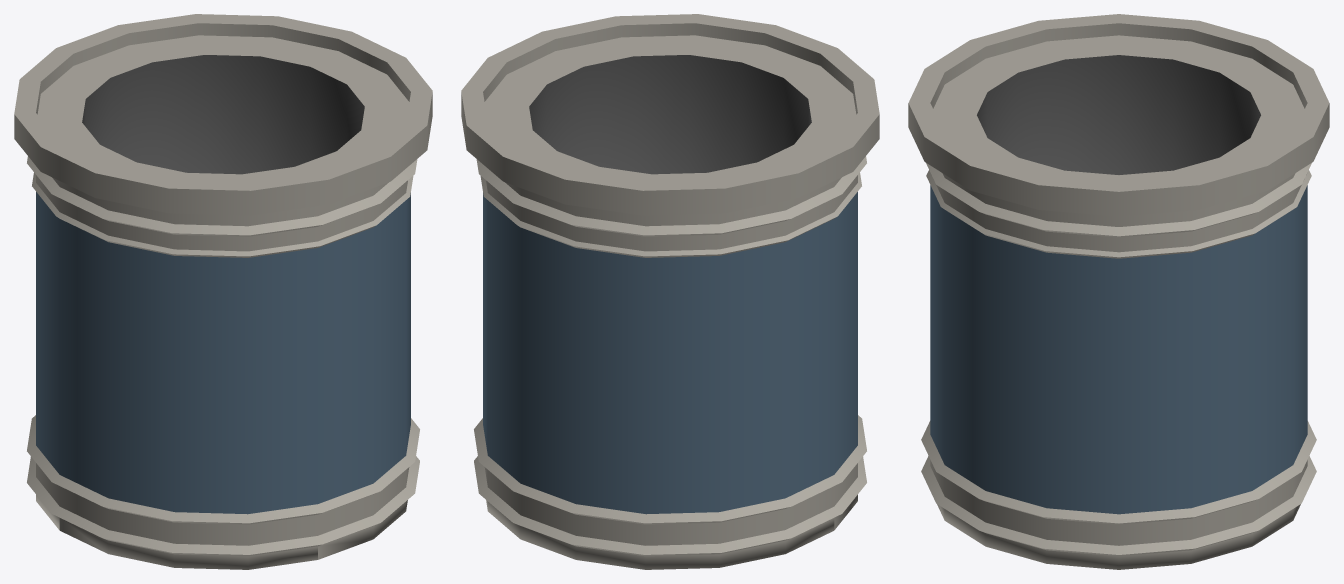
The model's file is barrel_02.fbx.
3 views of the same model, side by side, from view 1: azimuth 30°, elevation 25°; view 2: azimuth 150°, elevation 25°; view 3: azimuth 270°, elevation 25° (orthographic).
Parts seen in each view (by area): view 1: barrel_02; view 2: barrel_02; view 3: barrel_02.
Part boxes in pixels (x1,y1,x2,y2): barrel_02: [14, 14, 432, 569]; barrel_02: [461, 14, 879, 569]; barrel_02: [908, 14, 1329, 569].
Size of the model in its own units: 109 by 110 by 109.
